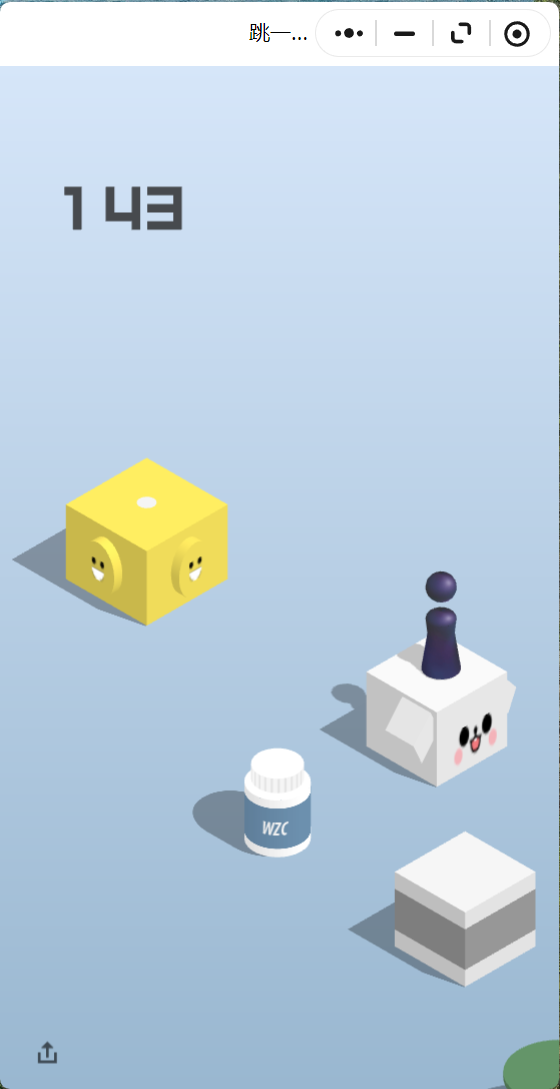piece: (426, 571, 456, 675)
target: (66, 457, 228, 551)
